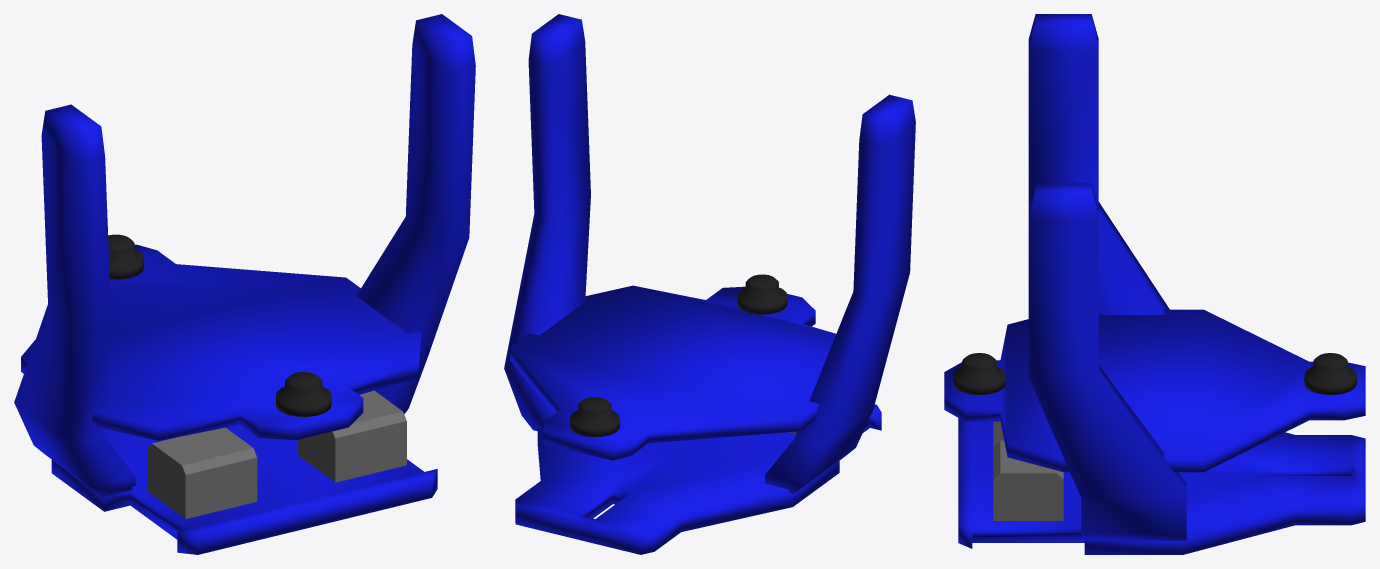
The model's file is shopping_cart_base.dae.
3 renders of one model, left to right at view 1: azimuth 30°, elevation 25°; view 2: azimuth 150°, elevation 25°; view 3: azimuth 270°, elevation 25°, orthographic. The views are drawn at different scales.
Parts seen in each view (by area): view 1: Cart-support, sensor_level, Cart-base, motors, lidar-back, lidar-front; view 2: Cart-support, sensor_level, Cart-base, lidar-back, lidar-front; view 3: Cart-support, sensor_level, Cart-base, motors, lidar-back, lidar-front.
Part boxes in pixels (bbox=[...]): Cart-support: bbox=[14, 14, 475, 496]; sensor_level: bbox=[21, 244, 421, 440]; Cart-base: bbox=[51, 424, 437, 554]; motors: bbox=[148, 390, 406, 518]; lidar-back: bbox=[276, 372, 331, 416]; lidar-front: bbox=[108, 234, 143, 279]; Cart-support: bbox=[504, 14, 915, 493]; sensor_level: bbox=[510, 285, 835, 460]; Cart-base: bbox=[515, 404, 881, 554]; lidar-back: bbox=[737, 274, 787, 314]; lidar-front: bbox=[570, 397, 619, 437]; Cart-support: bbox=[1028, 14, 1186, 540]; sensor_level: bbox=[944, 309, 1365, 472]; Cart-base: bbox=[958, 418, 1365, 554]; motors: bbox=[993, 421, 1063, 520]; lidar-back: bbox=[953, 353, 1005, 394]; lidar-front: bbox=[1304, 353, 1356, 394].
Bounding box in the file's own units: 0.61 × 0.6 × 0.605.
